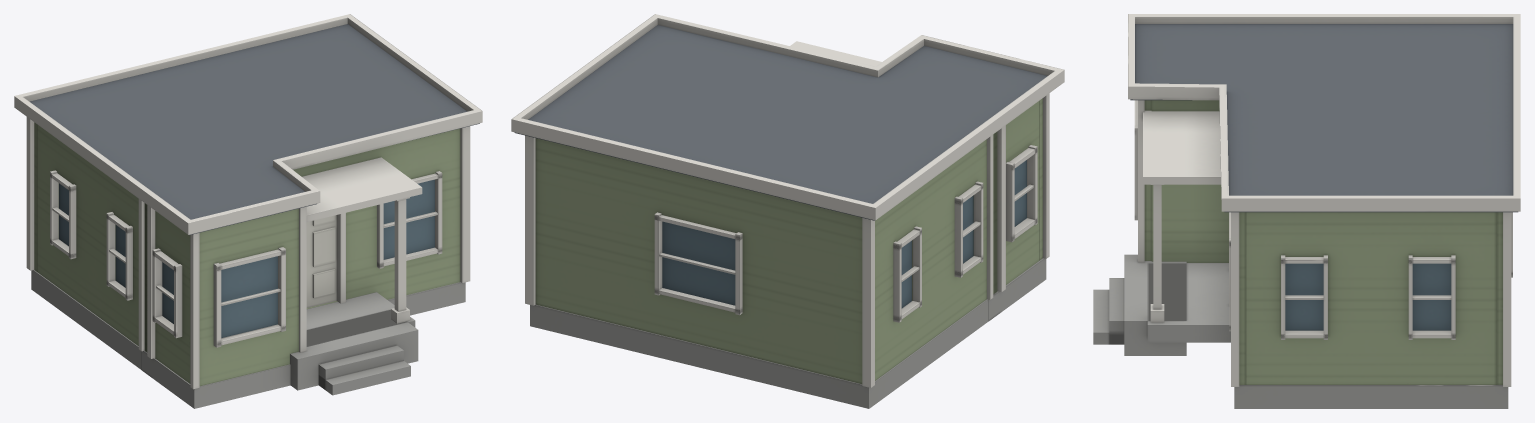
Rendered from House_01_Courtyard_L.fbx.
3 views of the same model, side by side, from view 1: azimuth 30°, elevation 25°; view 2: azimuth 150°, elevation 25°; view 3: azimuth 270°, elevation 25° (orthographic). The views are drawn at different scales.
Parts seen in each view (by area): view 1: House_01_Courtyard_L; view 2: House_01_Courtyard_L; view 3: House_01_Courtyard_L.
Part boxes in pixels (x1,y1,x2,y2): House_01_Courtyard_L: (14, 14, 482, 408); House_01_Courtyard_L: (511, 14, 1064, 408); House_01_Courtyard_L: (1093, 14, 1520, 408).
Size of the model in its own units: 6.75 by 3.69 by 6.6.
Materials: 1 (1 with a texture image).
